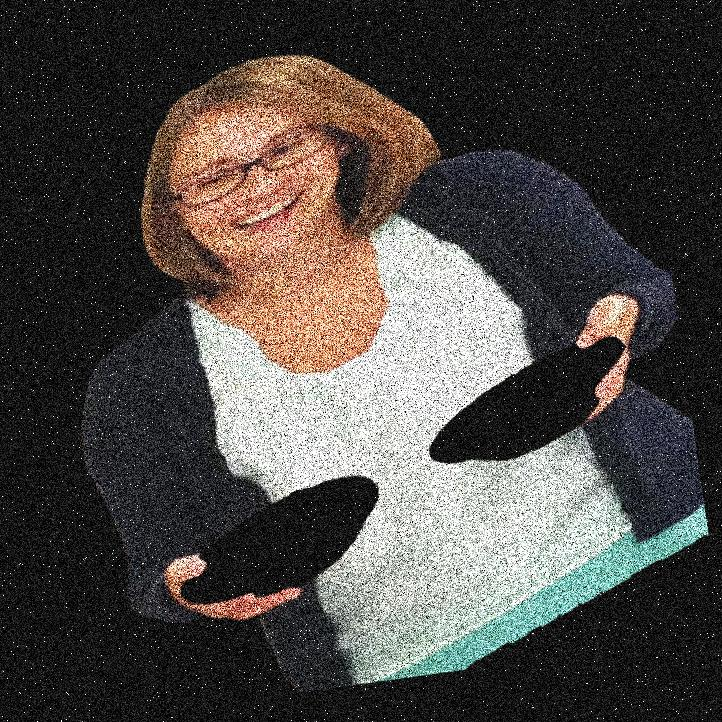Pessoa: (168, 0, 615, 721)
